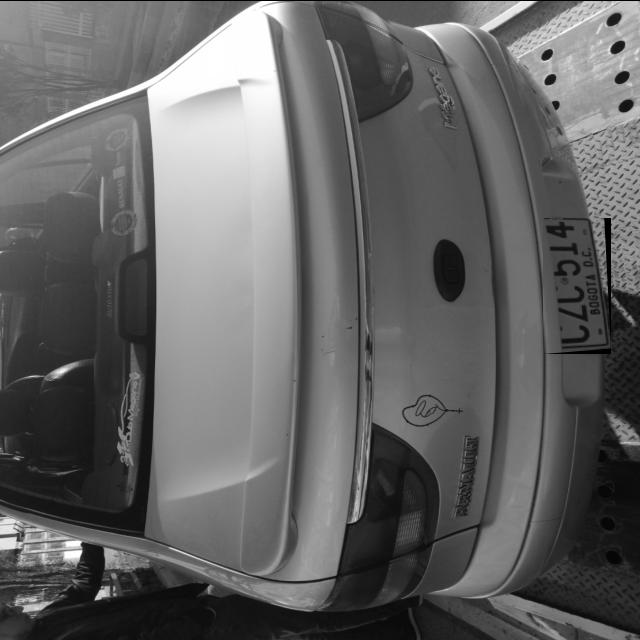plate: (543, 217, 611, 352)
